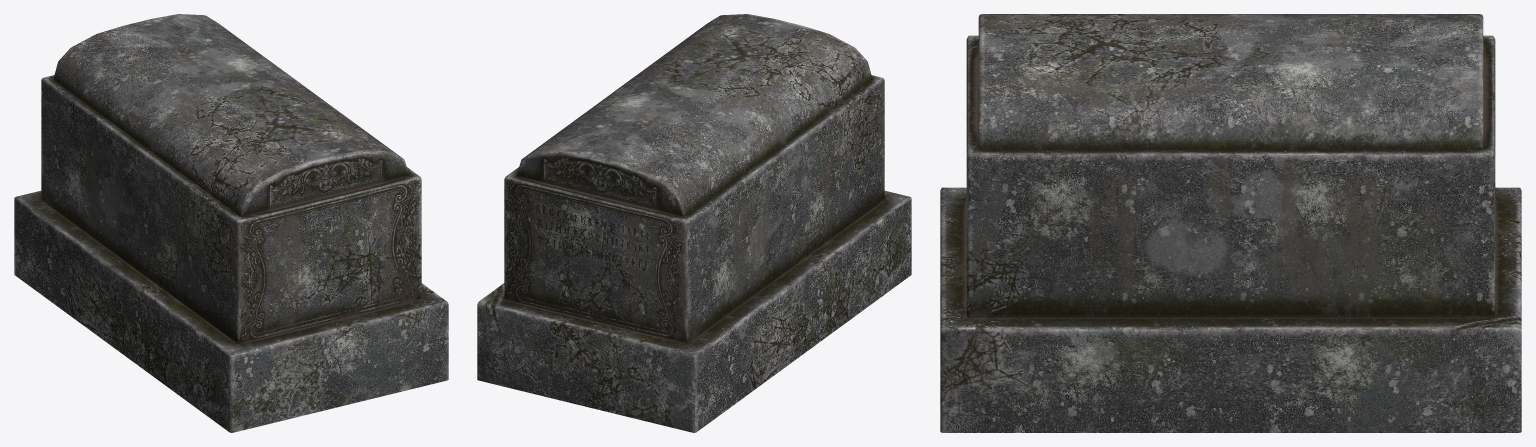
The model's file is SM_tombstone_39.fbx.
3 renders of one model, left to right at view 1: azimuth 30°, elevation 25°; view 2: azimuth 150°, elevation 25°; view 3: azimuth 270°, elevation 25°, orthographic. The views are drawn at different scales.
Parts seen in each view (by area): view 1: SM_tombstone_039; view 2: SM_tombstone_039; view 3: SM_tombstone_039.
Part boxes in pixels (bbox=[...]): SM_tombstone_039: bbox=[14, 14, 448, 432]; SM_tombstone_039: bbox=[477, 14, 911, 432]; SM_tombstone_039: bbox=[940, 14, 1521, 432].
Bounding box in the file's own units: 128 × 132 × 221.
